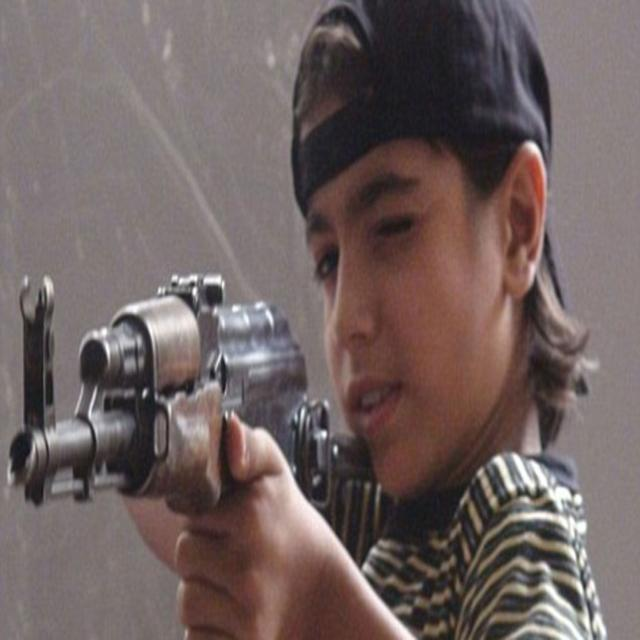weapon: (3, 272, 373, 510)
